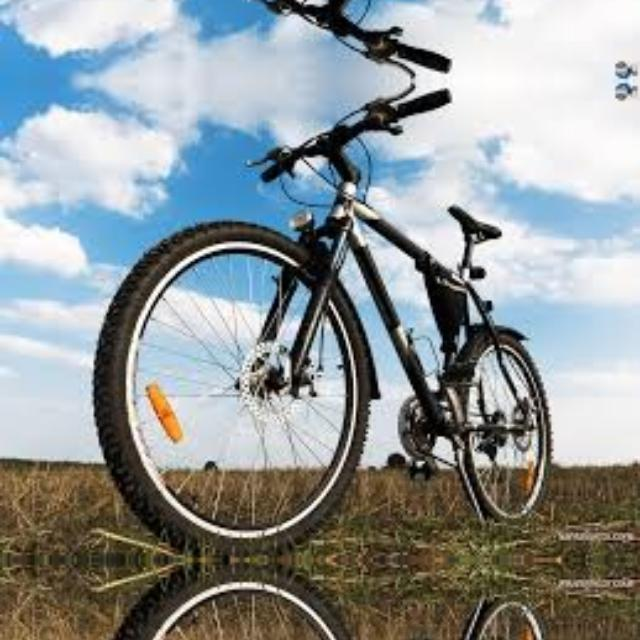obstacle: (74, 80, 570, 542), (73, 0, 570, 80), (73, 577, 570, 640)
